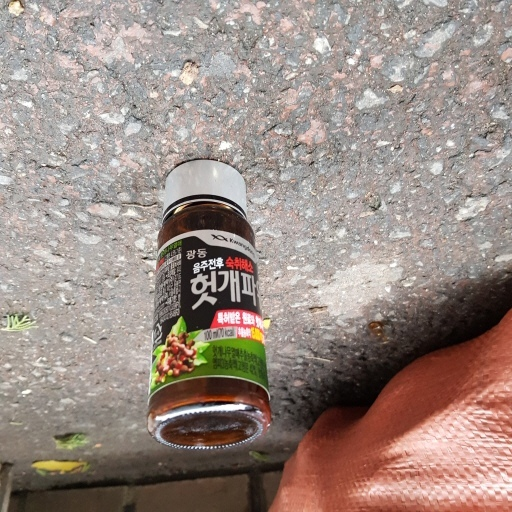Glass_3: (146, 159, 273, 455)
